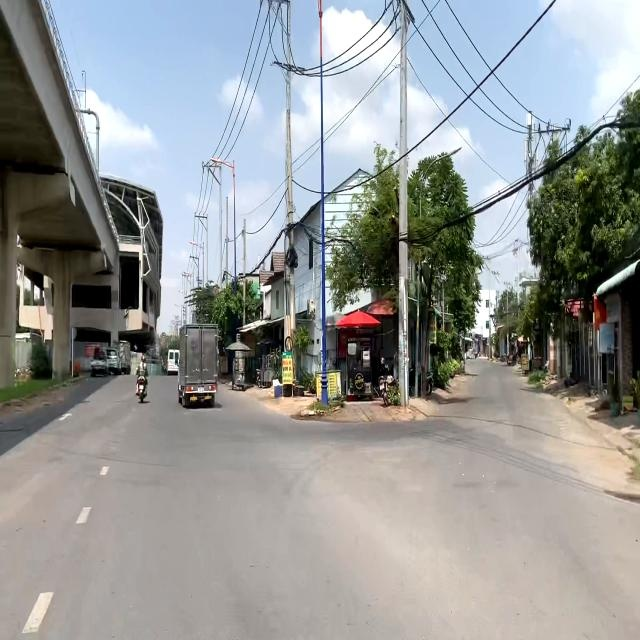bien_hieu_lenh: (134, 343, 138, 352)
